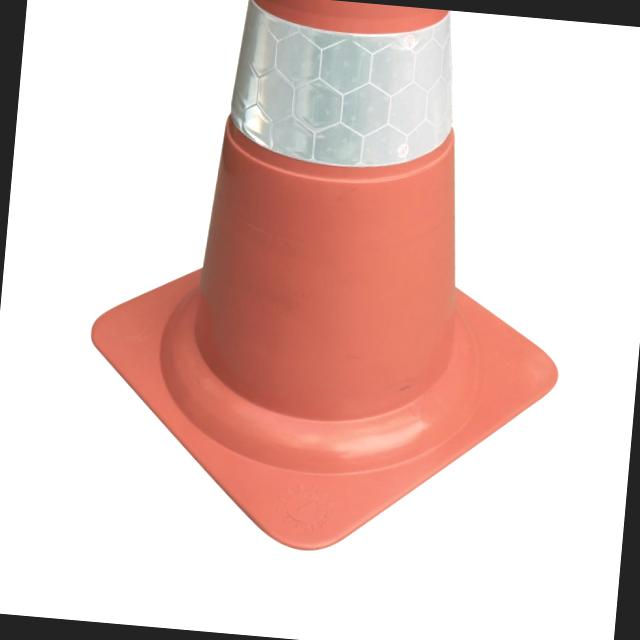cone: (126, 0, 558, 519)
